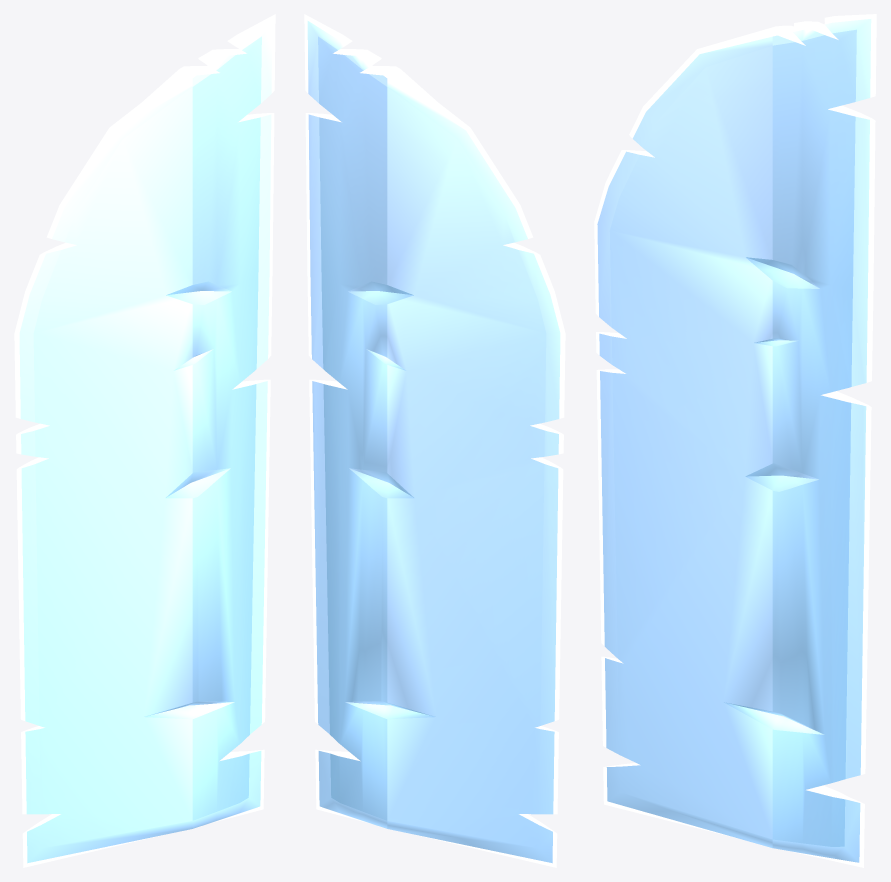
The model's file is steel_blade_scratched_053.glb.
The picture shows the model from 3 angles, left to right: view 1: azimuth 30°, elevation 25°; view 2: azimuth 150°, elevation 25°; view 3: azimuth 330°, elevation 25°; orthographic projection. The views are drawn at different scales.
Visible parts, largest first — view 1: steel_blade_scratched.053; view 2: steel_blade_scratched.053; view 3: steel_blade_scratched.053.
Part boxes in pixels (bbox=[...]): steel_blade_scratched.053: bbox=[14, 14, 275, 867]; steel_blade_scratched.053: bbox=[304, 14, 565, 867]; steel_blade_scratched.053: bbox=[594, 14, 876, 867].
Size of the model in its own units: 4.15 by 12.06 by 0.3631.
1 material, 1 textured.
